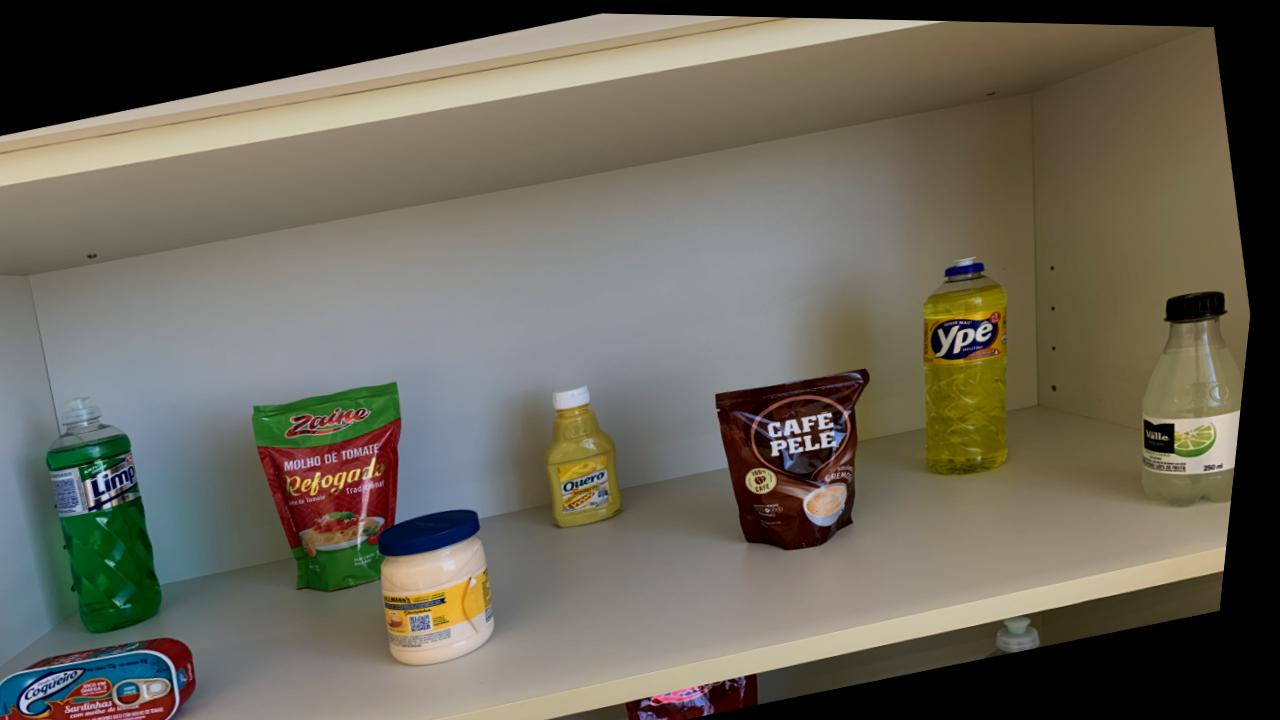Coffee-Pantry_Items: (723, 366, 877, 548)
Detergent-Cleanup_Items: (54, 394, 178, 634), (927, 256, 1020, 473), (1007, 612, 1062, 651)
Mayonnaise-Pantry_Items: (390, 508, 510, 666)
Mustard-Pantry_Items: (555, 384, 635, 528)
Soda-Drinks: (1147, 285, 1252, 501)
Tomato_Sauce-Pantry_Items: (257, 380, 413, 592), (642, 680, 772, 720)
Tuna_Can-Pantry_Items: (9, 637, 208, 720)
